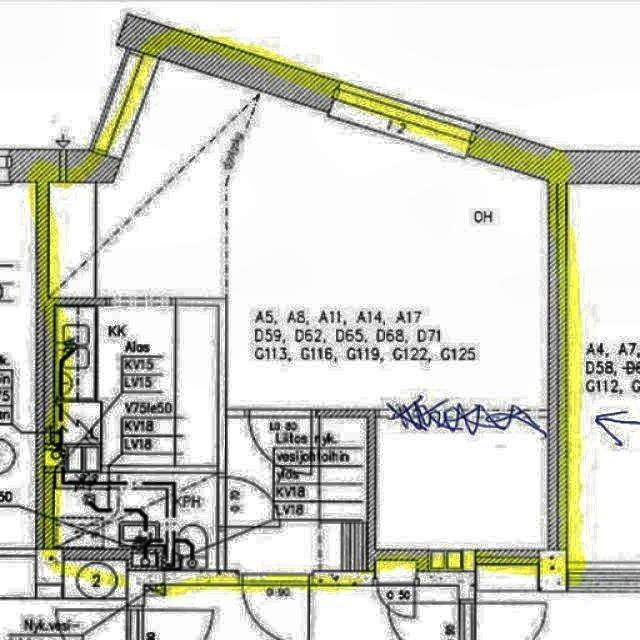room: (56, 307, 219, 573), (226, 419, 368, 569)
